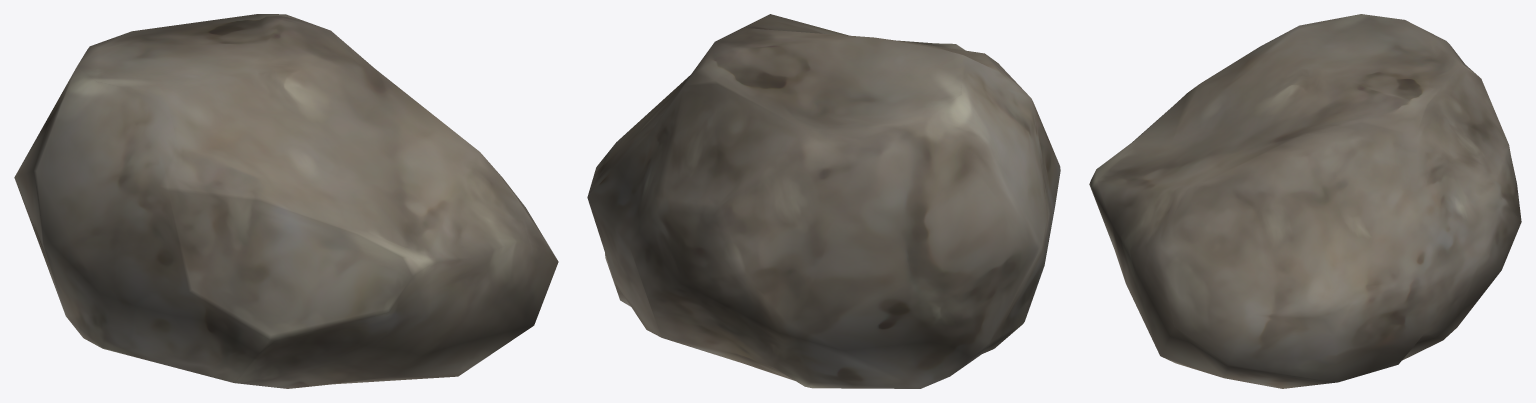
File: rock-5.glb
3 renders of one model, left to right at view 1: azimuth 30°, elevation 25°; view 2: azimuth 150°, elevation 25°; view 3: azimuth 270°, elevation 25°, orthographic. The views are drawn at different scales.
Visible parts, largest first — view 1: rock_5_Cube.025; view 2: rock_5_Cube.025; view 3: rock_5_Cube.025.
Boxes of the visible parts, x1,y1,x2,y2 form: rock_5_Cube.025: (14,14,558,388); rock_5_Cube.025: (587,14,1060,388); rock_5_Cube.025: (1089,14,1521,388).
Bounding box in the file's own units: 1.68 × 1.09 × 1.64.
Materials: 1 (1 with a texture image).
